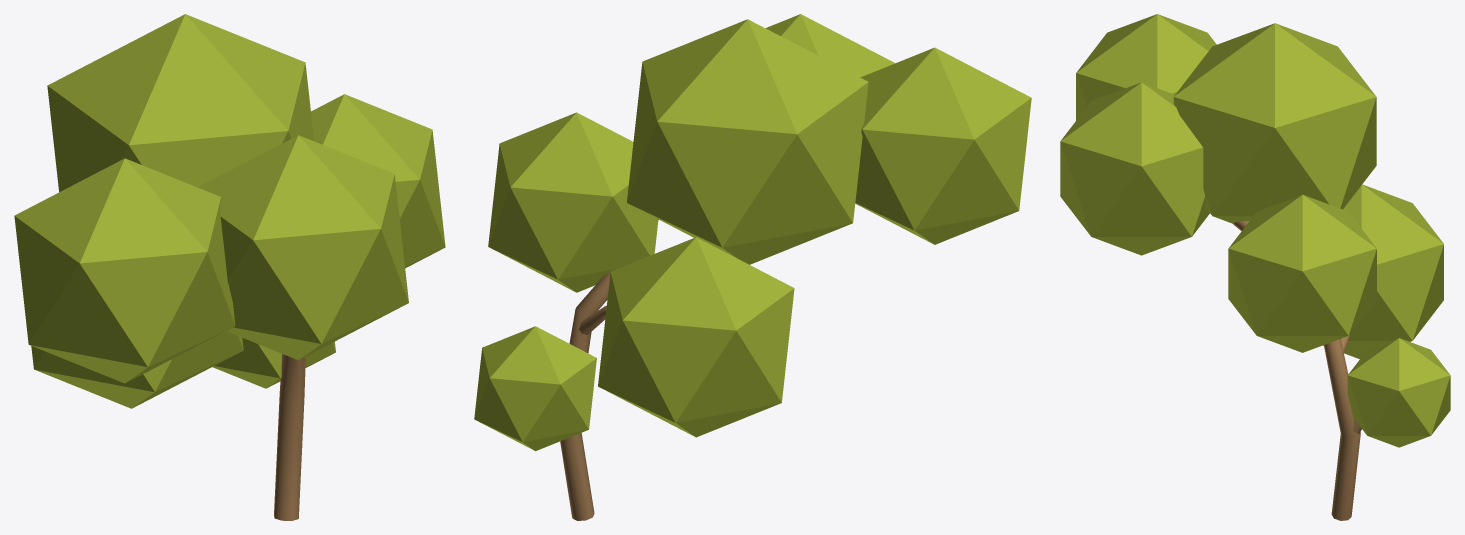
Rendered from cherryTreesVisual.glb.
The picture shows the model from 3 angles, left to right: view 1: azimuth 30°, elevation 25°; view 2: azimuth 150°, elevation 25°; view 3: azimuth 270°, elevation 25°; orthographic projection. The views are drawn at different scales.
Parts seen in each view (by area): view 1: treeLeaves.014, treeLeaves.018, treeLeaves.013, treeLeaves.015, treeLeaves.016, GN Instance, treeLeaves.017; view 2: treeLeaves.013, treeLeaves.016, treeLeaves.014, treeLeaves.015, treeLeaves.017, GN Instance, treeLeaves.018; view 3: treeLeaves.013, treeLeaves.018, treeLeaves.015, treeLeaves.016, treeLeaves.017, treeLeaves.014, GN Instance.
Boxes of the visible parts, x1,y1,x2,y2 form: treeLeaves.014: (14,158,235,383); treeLeaves.018: (198,135,408,360); treeLeaves.013: (47,14,313,192); treeLeaves.015: (311,94,445,267); treeLeaves.016: (31,331,243,408); GN Instance: (274,354,305,520); treeLeaves.017: (212,338,335,388); treeLeaves.013: (626,19,868,264); treeLeaves.016: (598,237,794,437); treeLeaves.014: (855,47,1031,244); treeLeaves.015: (488,112,658,292); treeLeaves.017: (474,326,596,451); GN Instance: (560,219,658,520); treeLeaves.018: (765,14,894,77); treeLeaves.013: (1173,23,1376,223); treeLeaves.018: (1060,82,1209,255); treeLeaves.015: (1228,194,1376,352); treeLeaves.016: (1323,184,1443,359); treeLeaves.017: (1347,338,1450,447); treeLeaves.014: (1076,14,1216,120); GN Instance: (1233,221,1361,520).
Bounding box in the file's own units: 6.07 × 6.66 × 5.36.
